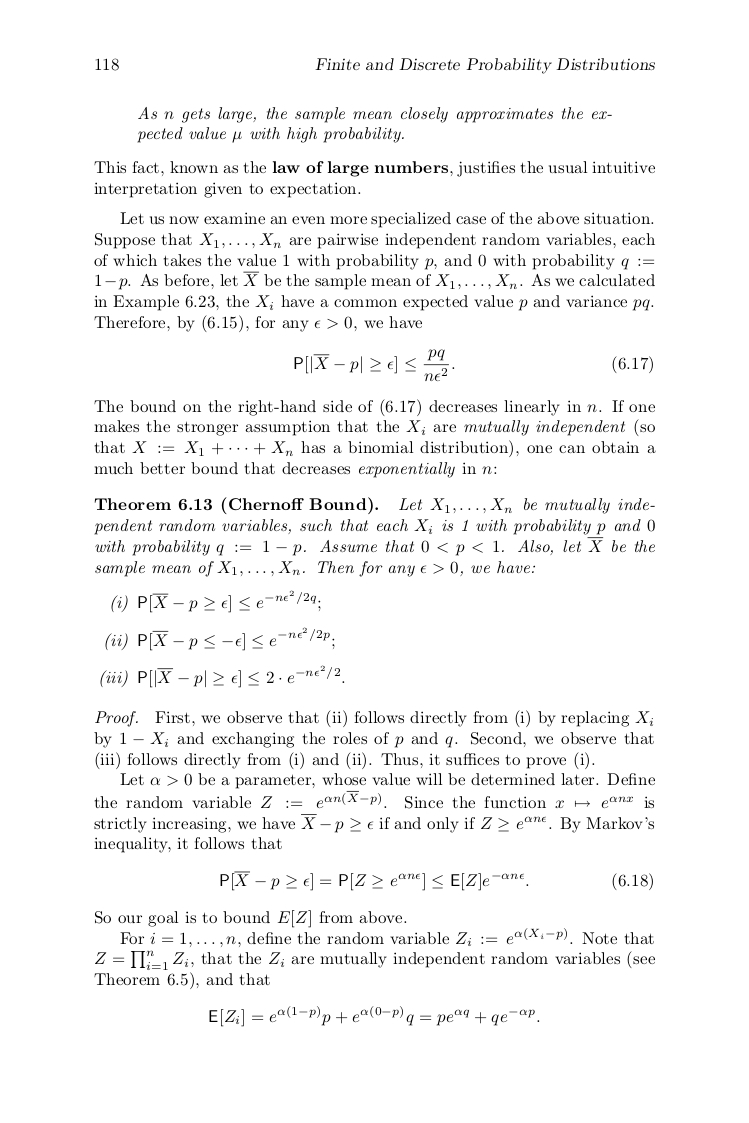formula: (294, 348, 652, 382), (220, 870, 652, 891), (209, 1005, 539, 1027), (100, 664, 344, 688), (105, 626, 334, 651), (111, 589, 320, 613)
